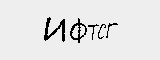Г: (105, 20, 118, 41)
И: (44, 18, 66, 44)
С: (96, 22, 106, 42)
Т: (88, 24, 98, 42)
Ф: (69, 18, 87, 46)
